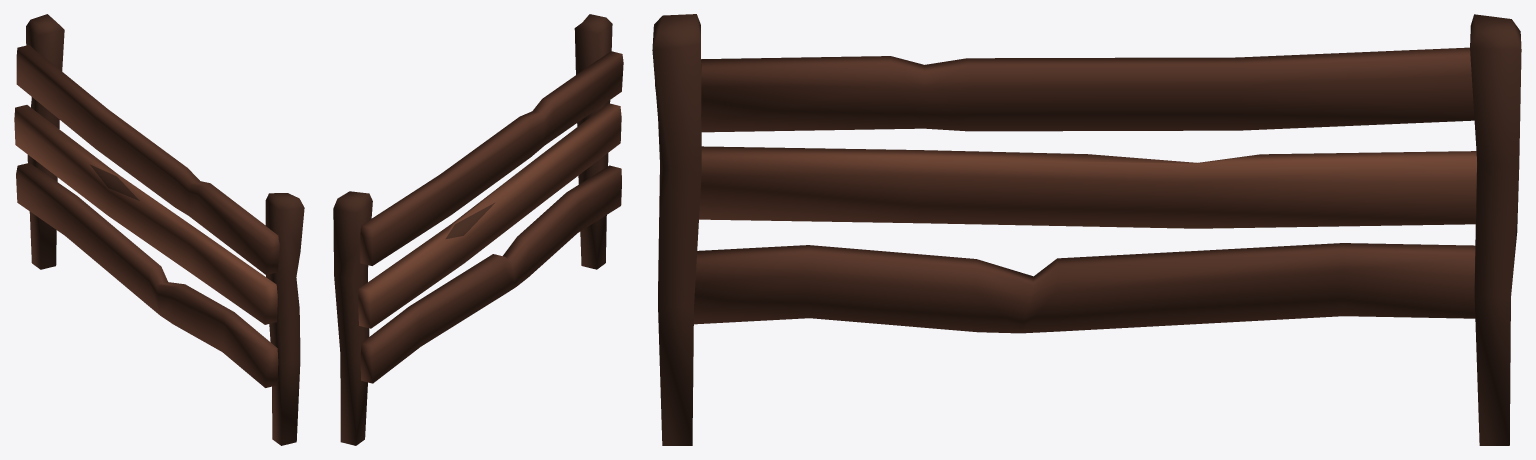
The model's file is FenceWoodMedium_01.glb.
The picture shows the model from 3 angles, left to right: view 1: azimuth 30°, elevation 25°; view 2: azimuth 150°, elevation 25°; view 3: azimuth 270°, elevation 25°; orthographic projection. The views are drawn at different scales.
Parts seen in each view (by area): view 1: FenceWoodMedium_01; view 2: FenceWoodMedium_01; view 3: FenceWoodMedium_01.
Part boxes in pixels (x1=…): FenceWoodMedium_01: x1=14, y1=14, x2=304, y2=445; FenceWoodMedium_01: x1=333, y1=14, x2=623, y2=445; FenceWoodMedium_01: x1=652, y1=14, x2=1521, y2=445.
Size of what is drawn, in the model's own units: 0.1961 by 1.25 by 2.36.
Materials: 1 (1 with a texture image).
